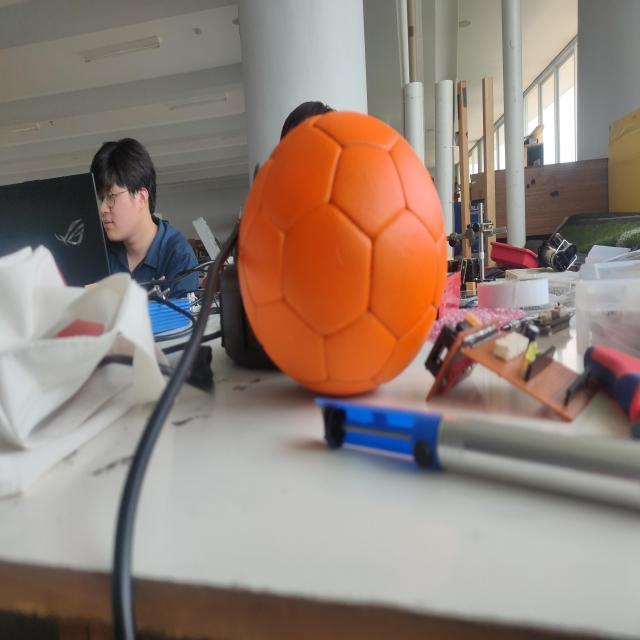bola: (234, 104, 444, 416)
